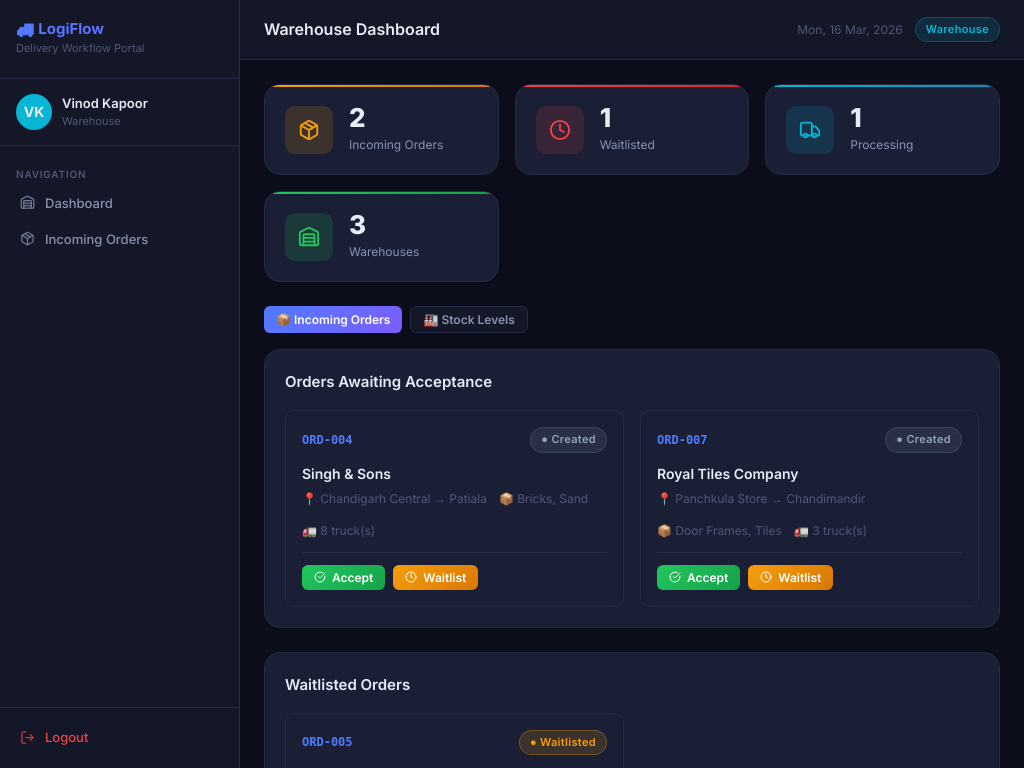
Test: Warehouse Dashboard › switches to Stock Levels tab showing all warehouses
Click the button "🏭 Stock Levels".
click(469, 320)  # box x1=410 y1=306 x2=528 y2=333
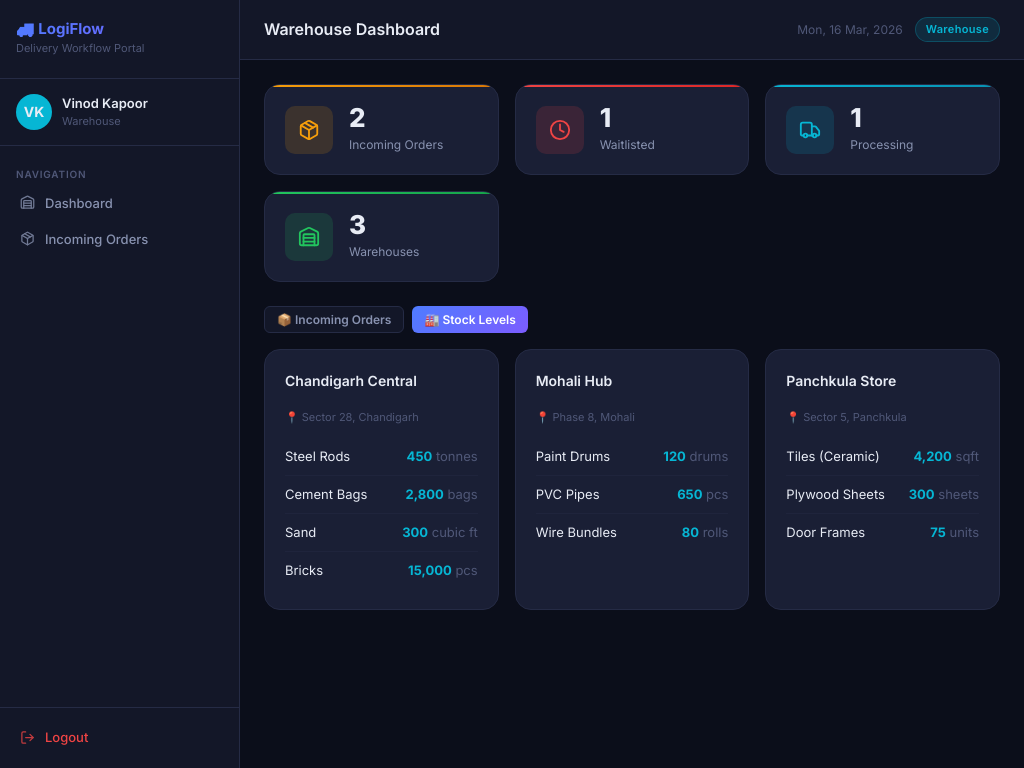
Expected: the heading "Chandigarh Central" is shown, x1=285 y1=370 x2=417 y2=393
Result: the heading "Mohali Hub" is shown at x1=536 y1=370 x2=612 y2=393
